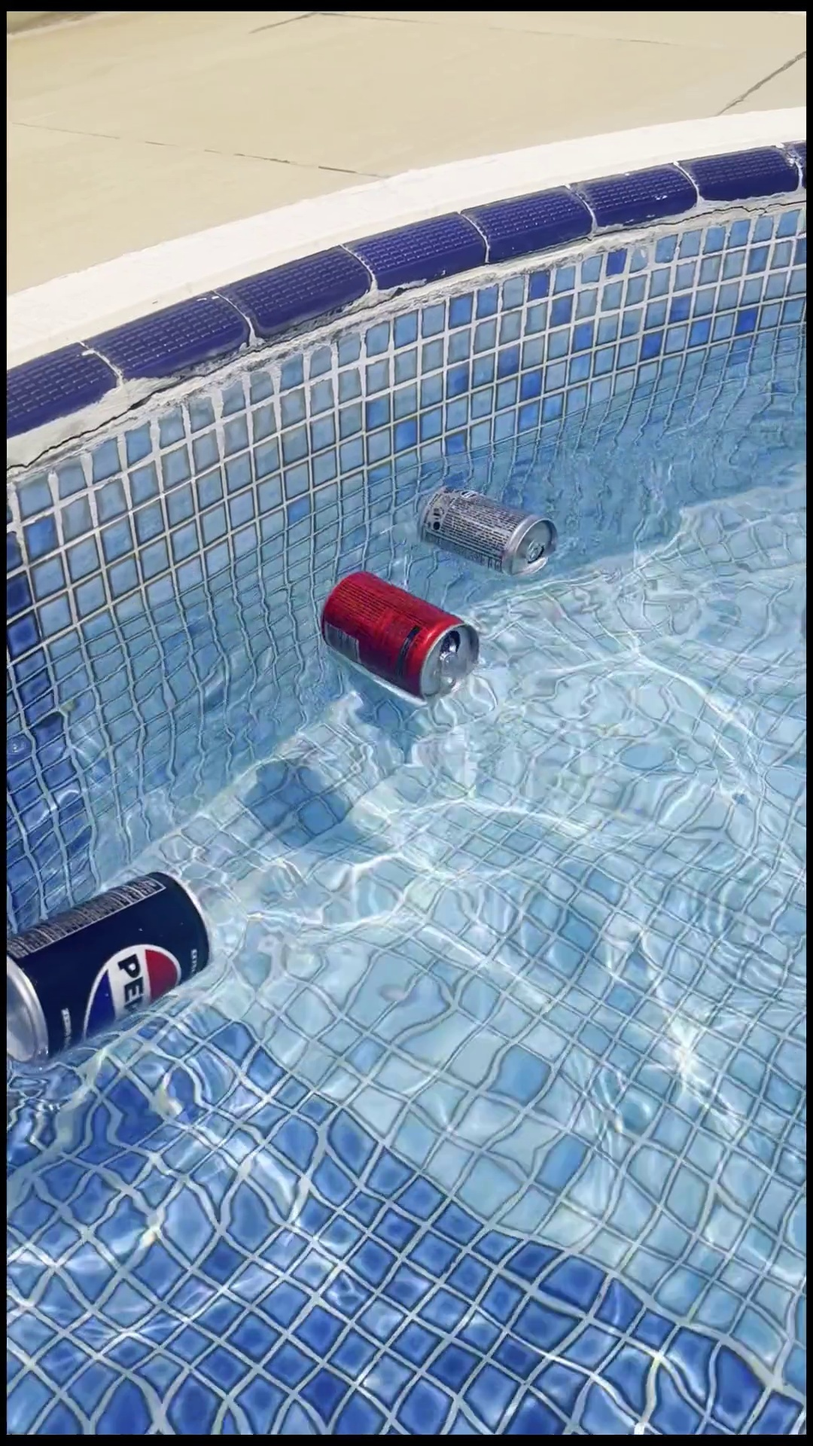debris: (8, 825, 214, 1099), (313, 527, 480, 728), (410, 455, 555, 606)
